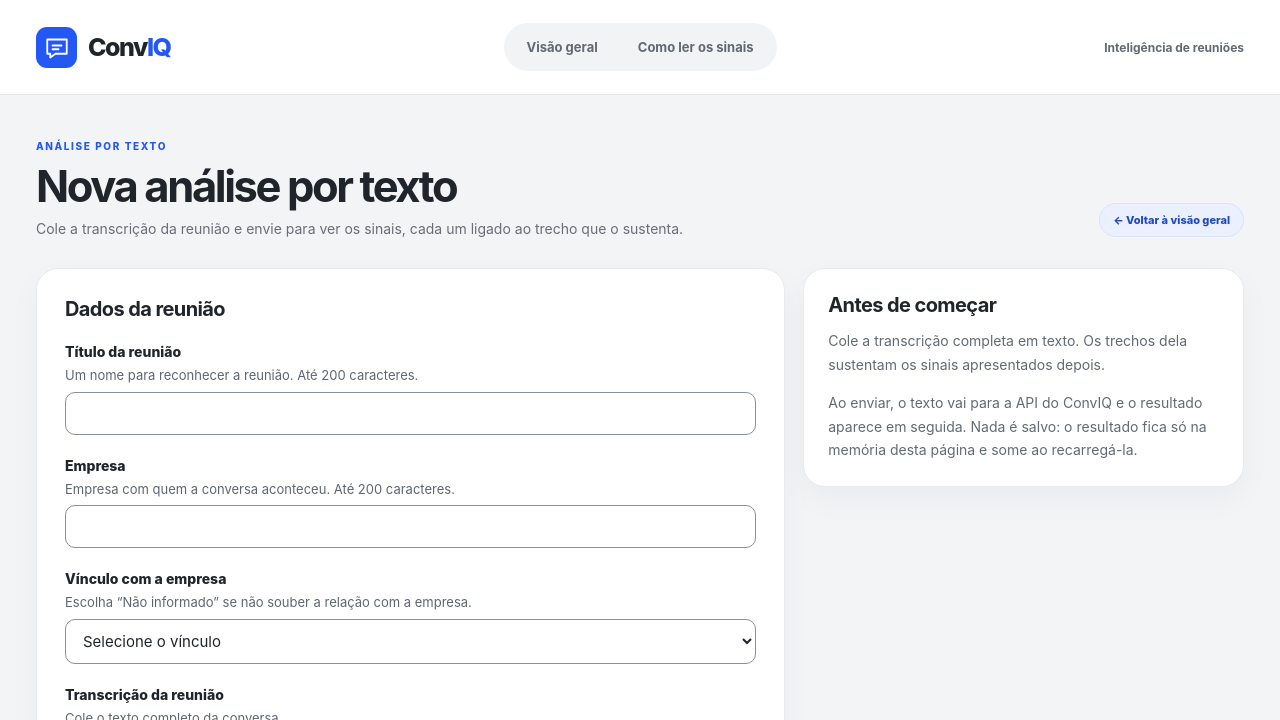
Test: falhas e nova tentativa › resposta fora do contrato: mostra a mensagem do cliente, preserva os campos e libera nova tentativa
The image size is (1280, 720).
Type "  Renovação Acme  " into the field labelled "Título da reunião". click: (411, 413)
box: [65,392,756,435]
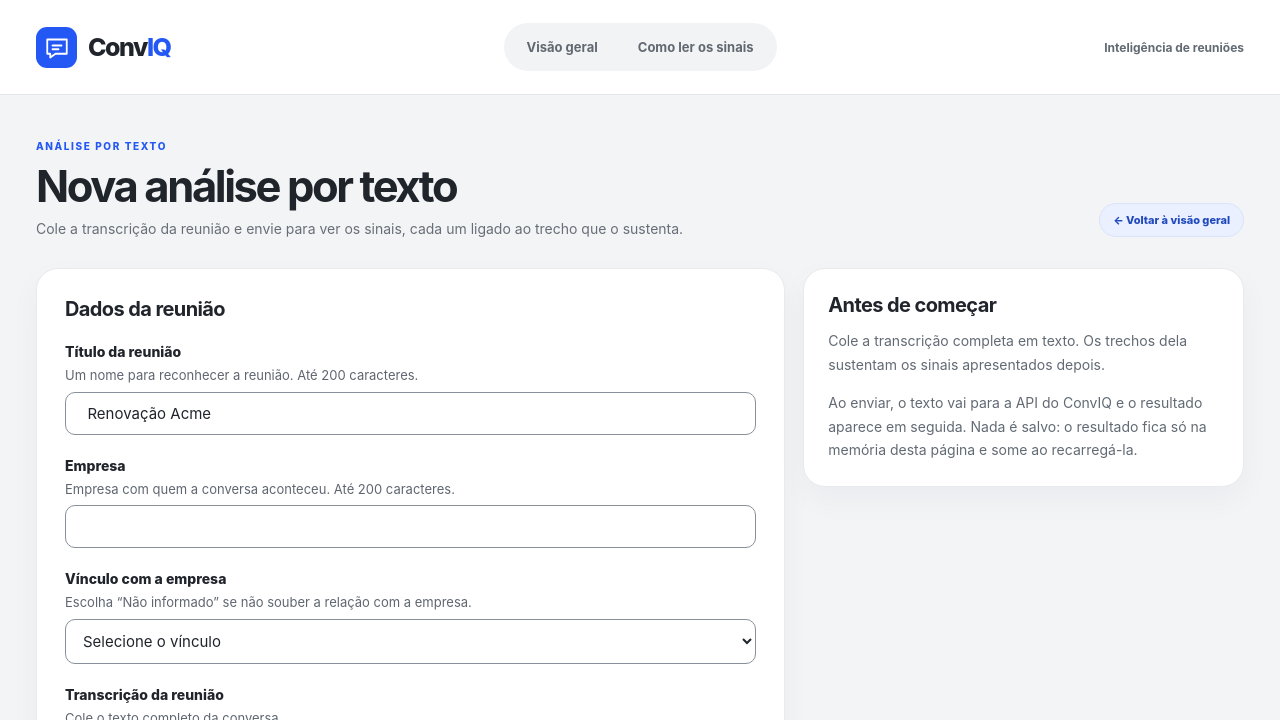
Type "Acme" into the field labelled "Empresa". click: (411, 527)
box: [65,505,756,548]
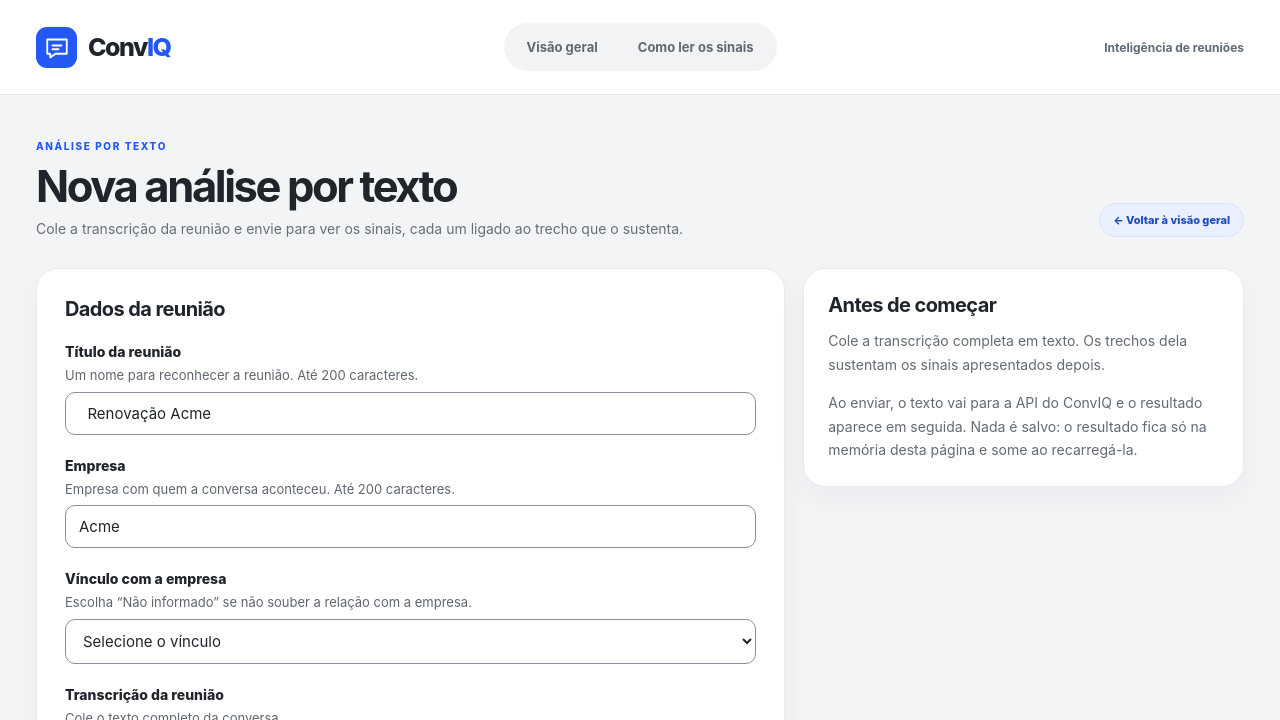
Select "Cliente" in the dropdown labelled "Vínculo com a empresa". click: (411, 641)
box: [65,619,756,664]
(page scrolled)
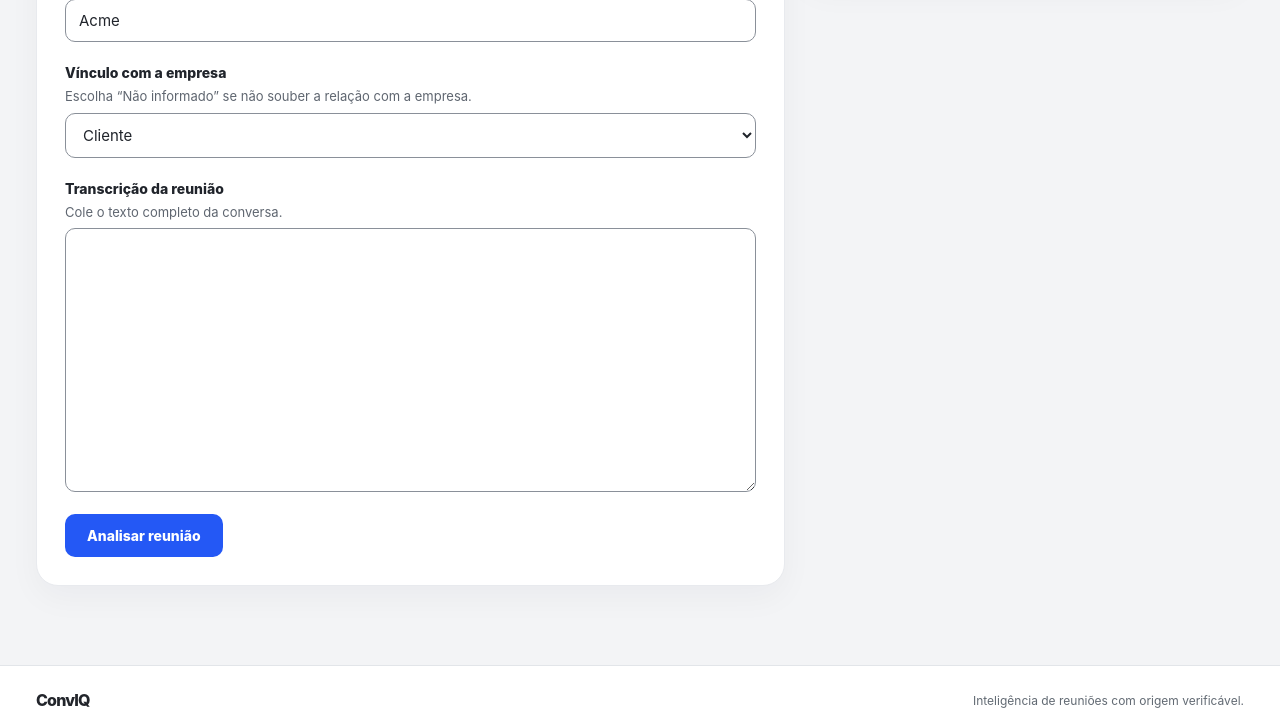
Type " Estamos insatisfeitos com o suporte. " into the text box labelled "Transcrição da reunião". click: (411, 360)
box: [65,228,756,492]
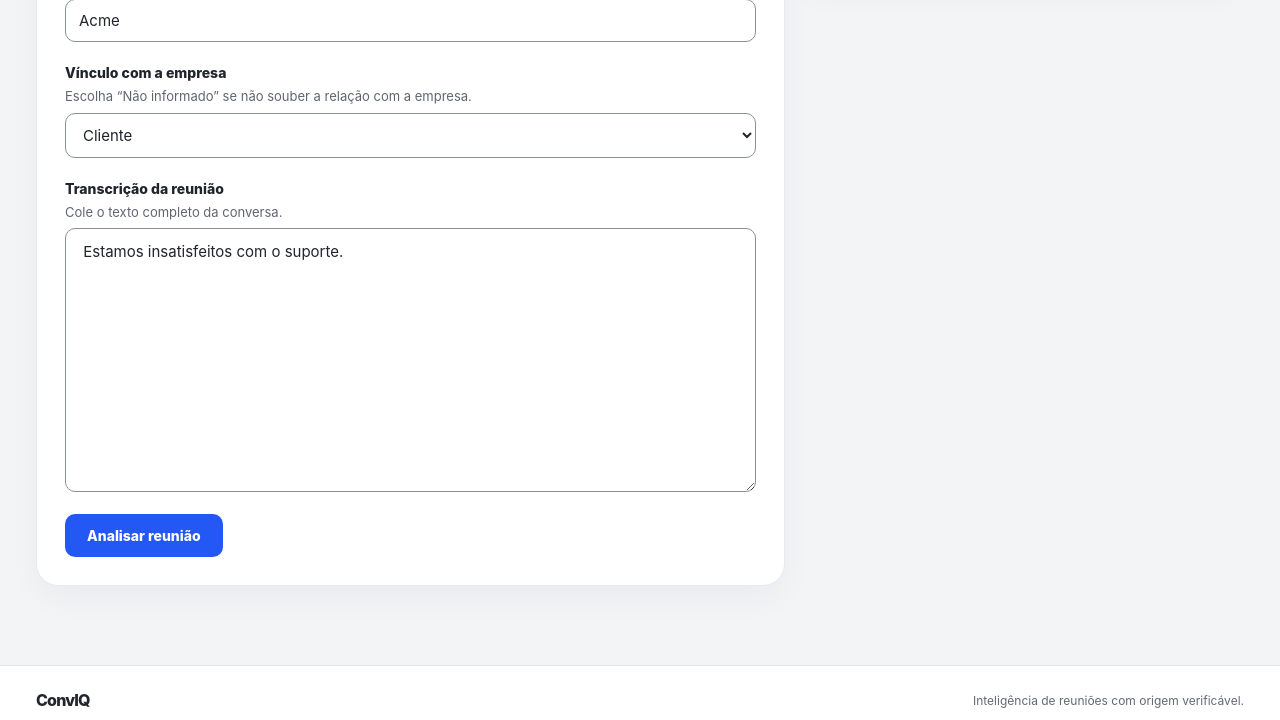
Click the button "Analisar reunião". click: (144, 536)
box: [65,514,223,557]
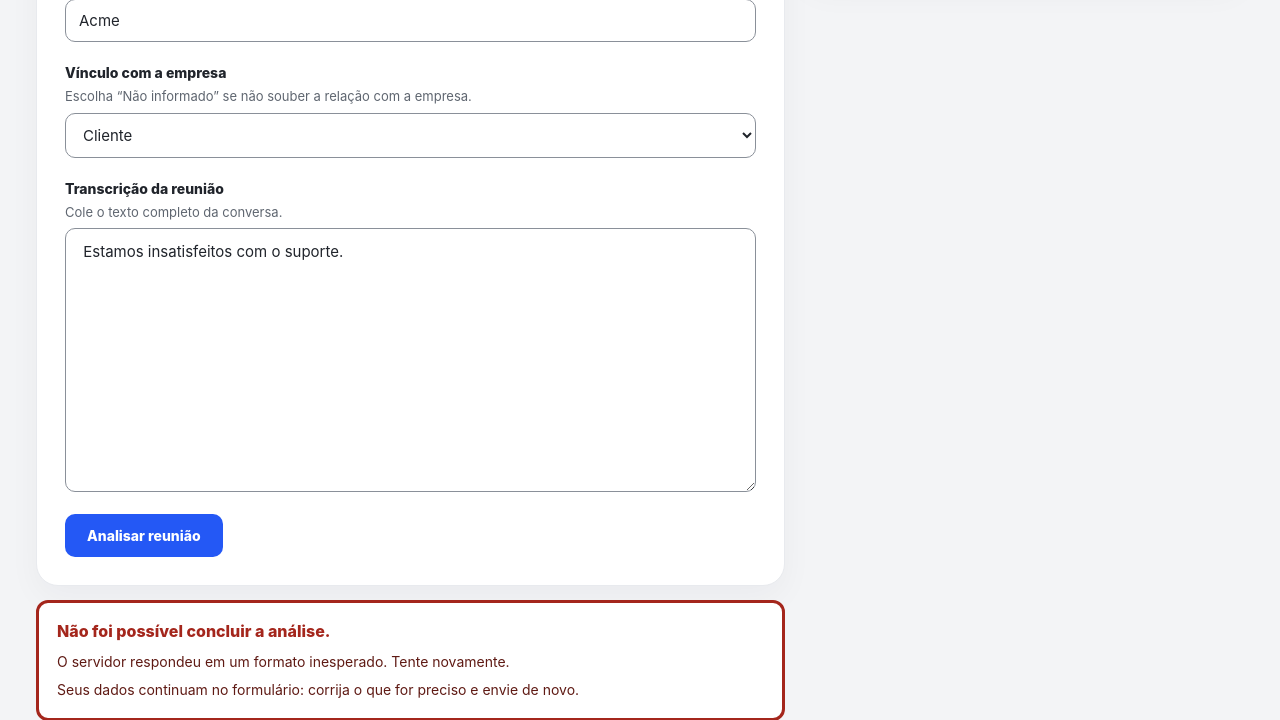
Expected: the message shows "formato inesperado", [57,653,510,670]
Expected: the message shows "Seus dados continuam no formulário", [57,681,579,698]
Expected: the number of messages is 1, [36,600,785,719]
